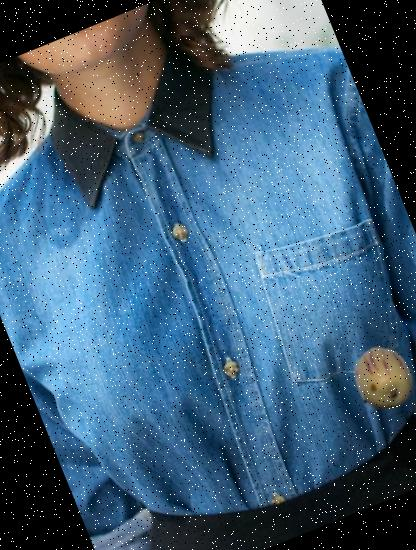Pepino: (343, 337, 416, 418)
